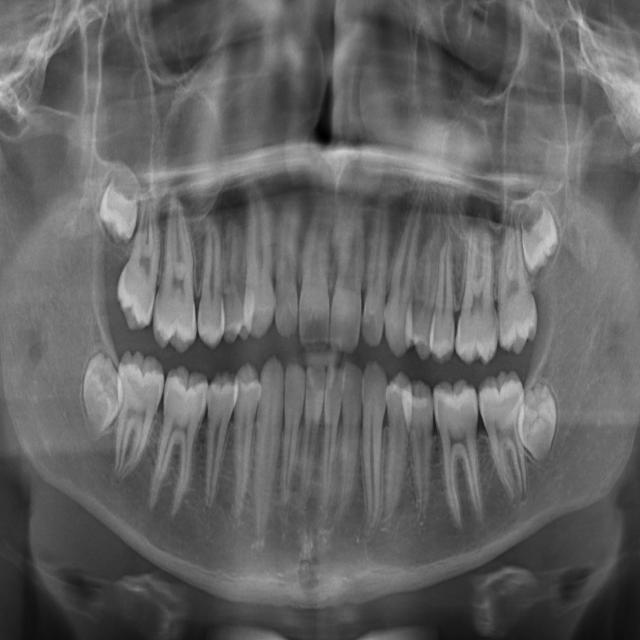3M ESPE Implant: (95, 162, 141, 246)
AGS Medikal Implant: (477, 364, 533, 508)
AMerOss Implant: (431, 375, 488, 536)
Amalgam filling: (111, 186, 173, 336)
Anthogyr Implant: (408, 375, 435, 526)
Bicon Implant: (379, 370, 412, 531)
BioHorizons Implant: (350, 358, 389, 540)
BioLife Implant: (333, 361, 364, 521)
Biomet 3i Implant: (317, 361, 344, 519)
Blue Sky Bio Implant: (299, 361, 326, 519)
Camlog Implant: (280, 361, 306, 512)
Caries: (359, 169, 394, 353)
Composite filling: (247, 353, 287, 558)
Cowellmedi Implant: (229, 359, 258, 523)
Crown: (196, 368, 237, 519)
DENTSPLY Implant: (145, 184, 198, 359)
Dentatus Implant: (141, 362, 213, 526)
Dentis Implant: (112, 347, 167, 488)
Dentium Implant: (80, 349, 118, 440)
Euroteknika Implant: (198, 197, 224, 351)
Filling: (220, 198, 248, 347)
Frontier Implant: (244, 165, 273, 342)
Hiossen Implant: (379, 166, 430, 358)
Implant: (294, 176, 334, 354)
Implant Direct: (269, 173, 304, 343)
Keystone Dental Implant: (326, 182, 373, 355)
MIS Implant: (407, 212, 444, 362)
Mandible: (432, 220, 457, 367)
Maxilla: (453, 216, 498, 369)
Megagen Implant: (494, 212, 540, 363)
Neodent Implant: (504, 190, 576, 284)
Neoss Implant: (519, 371, 562, 468)
